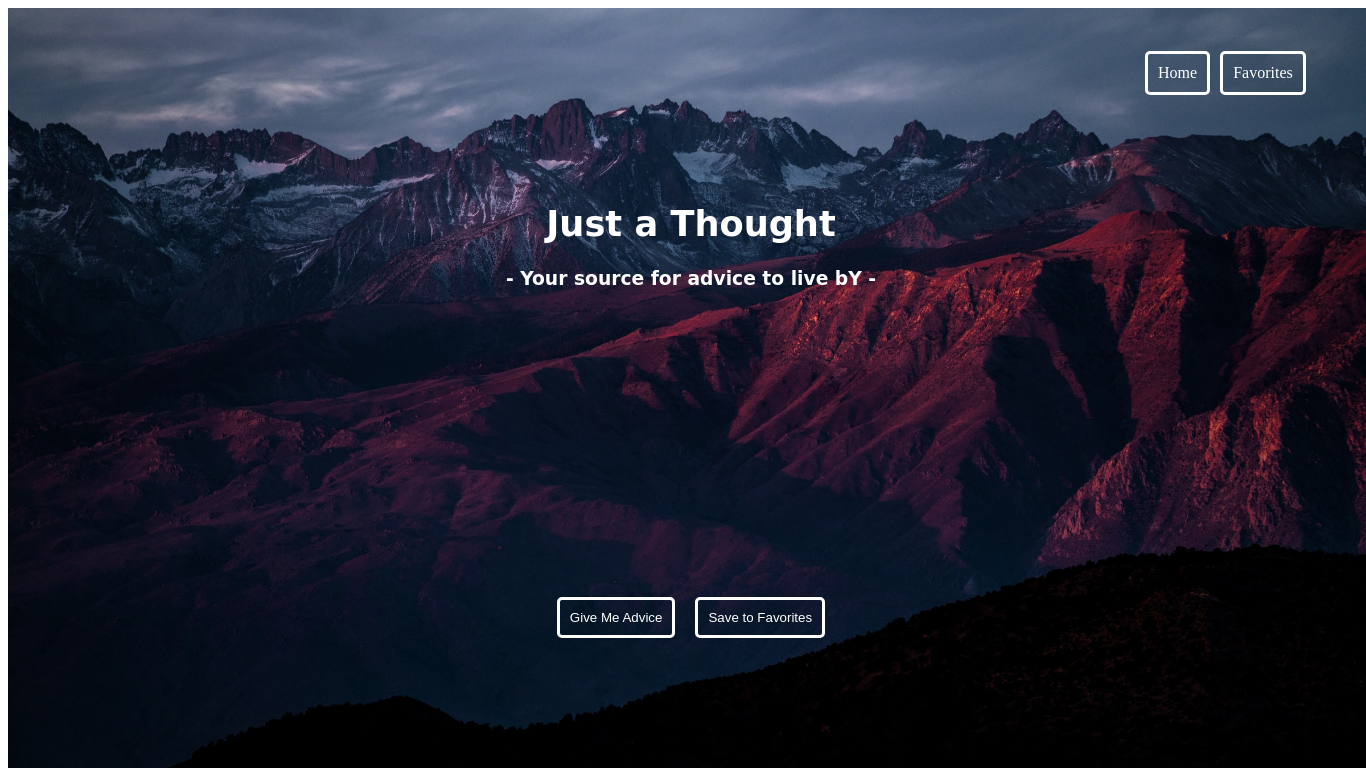
Scenario: Main page user flow › Should display a piece of advice on button click
This screenshot has width=1366, height=768.
Click the button with class "advice-button" at (617, 618), box [557,597,676,638]
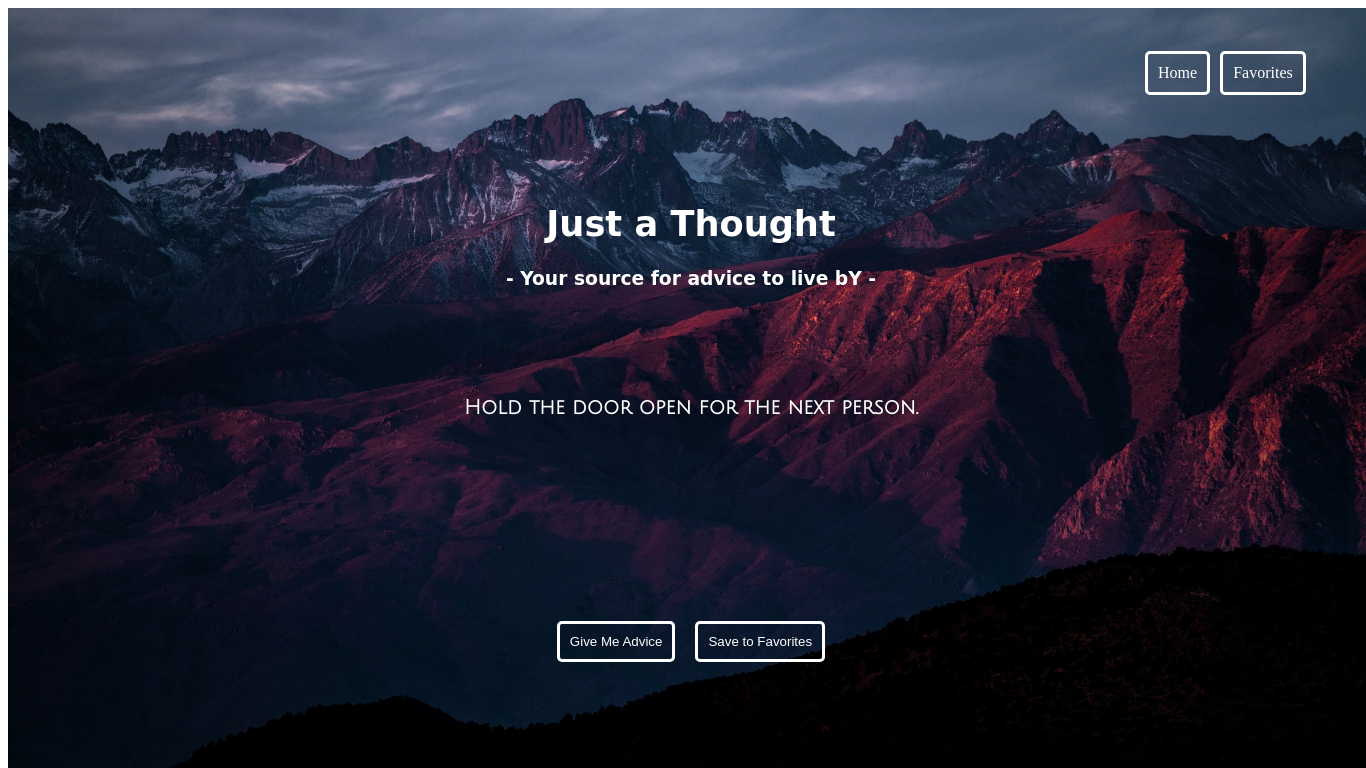
Check: the heading "Hold the door open for the next person." is shown, box [464,392,918,419]
